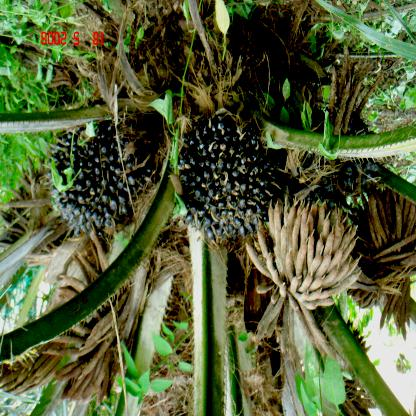palm-oil: (50, 109, 160, 235), (175, 112, 278, 241)
